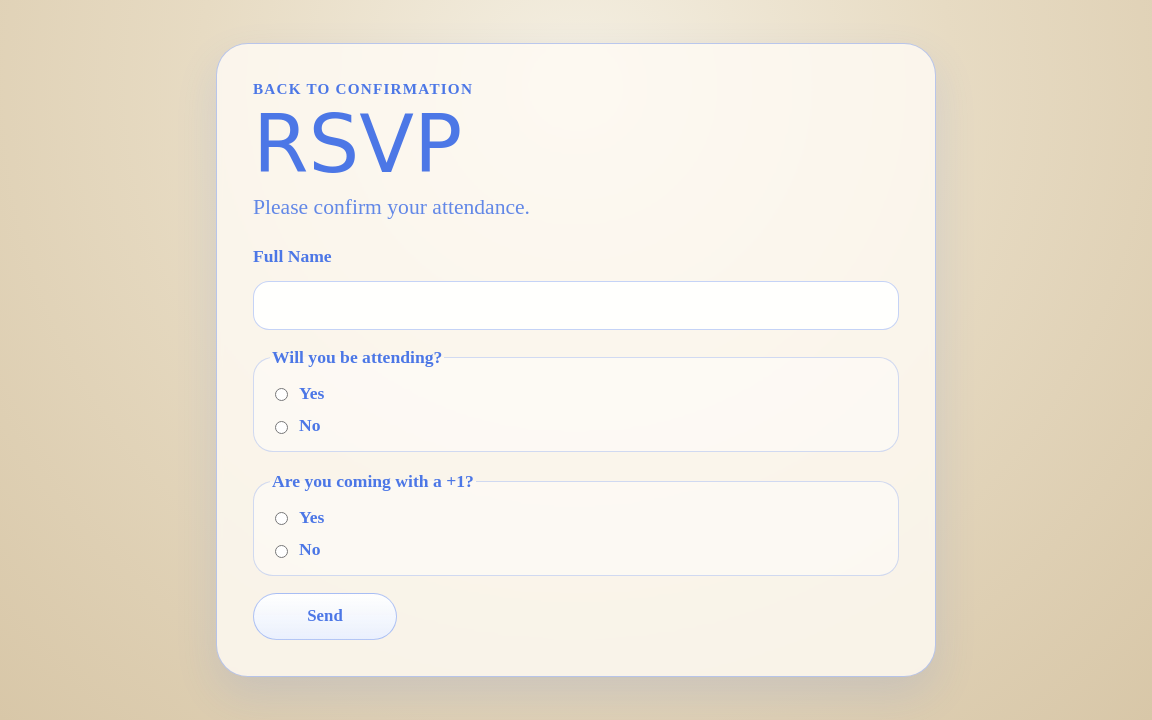
rsvp page › requires a plus one name when the guest is bringing one
Type "Luna Example" into the field labelled "Full Name" at {"x": 576, "y": 306}, box [253,281,899,330]
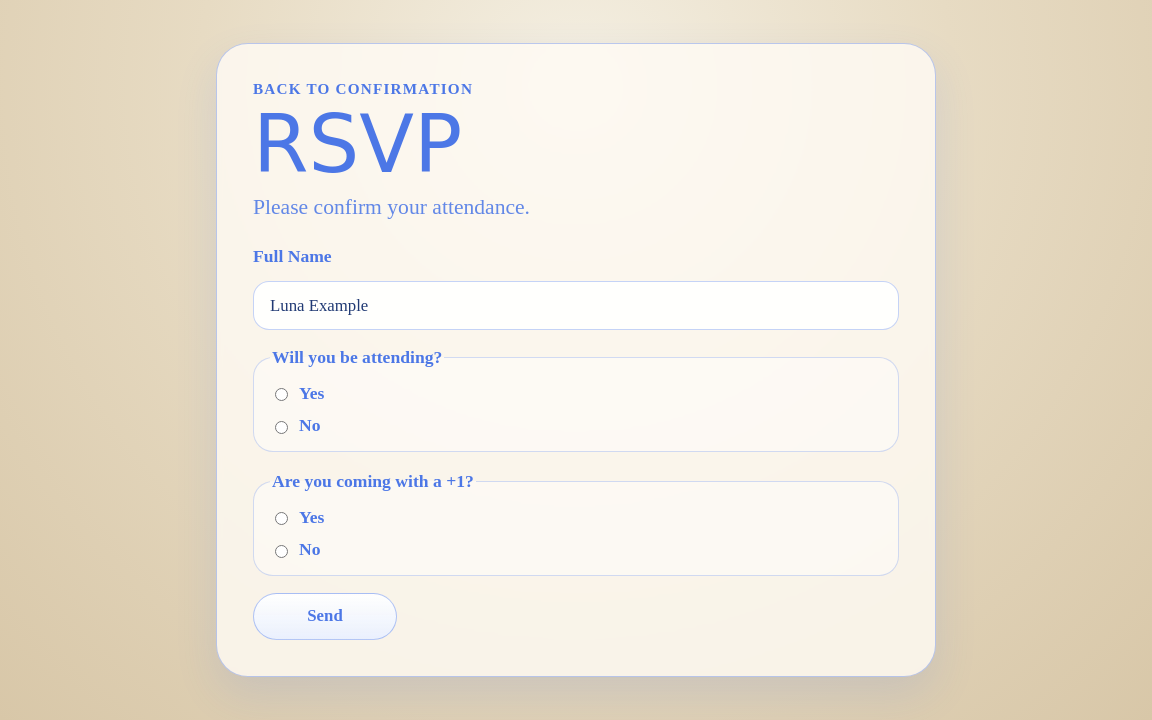
Click the radio button labelled "Yes" below "Will you be attending?" at {"x": 282, "y": 395}, box [275,388,288,402]
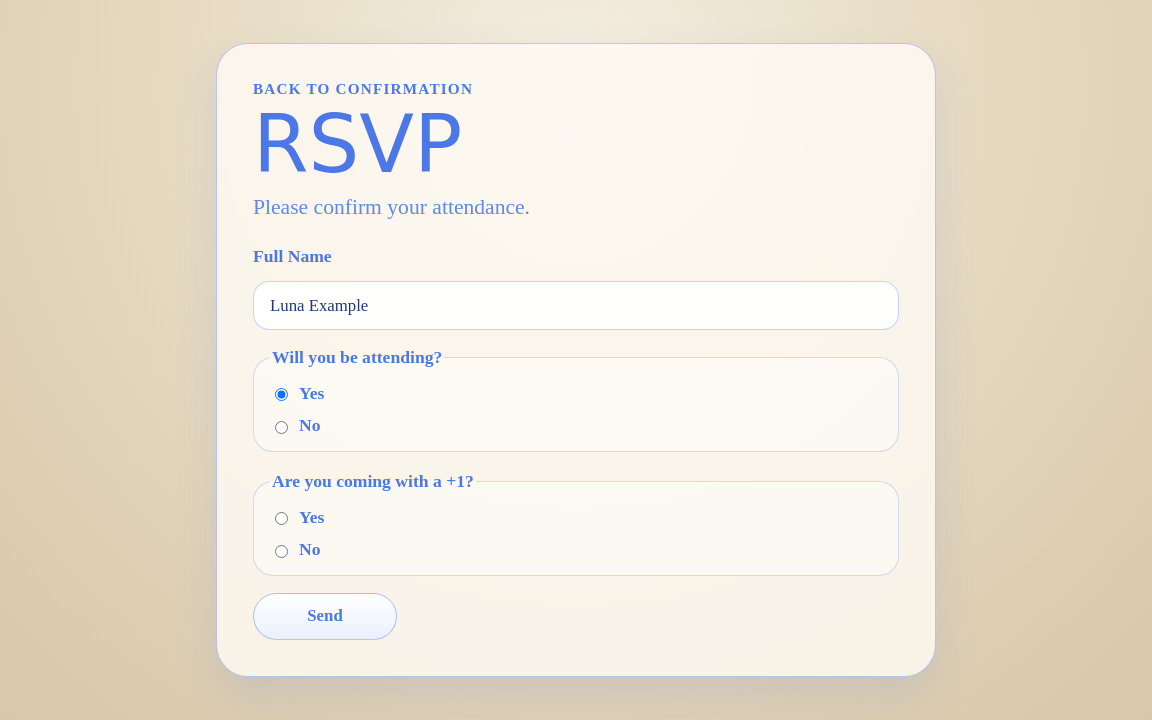
Click the radio button labelled "Yes" below "Are you coming with a +1?" at {"x": 282, "y": 519}, box [275,512,288,525]
(page scrolled)
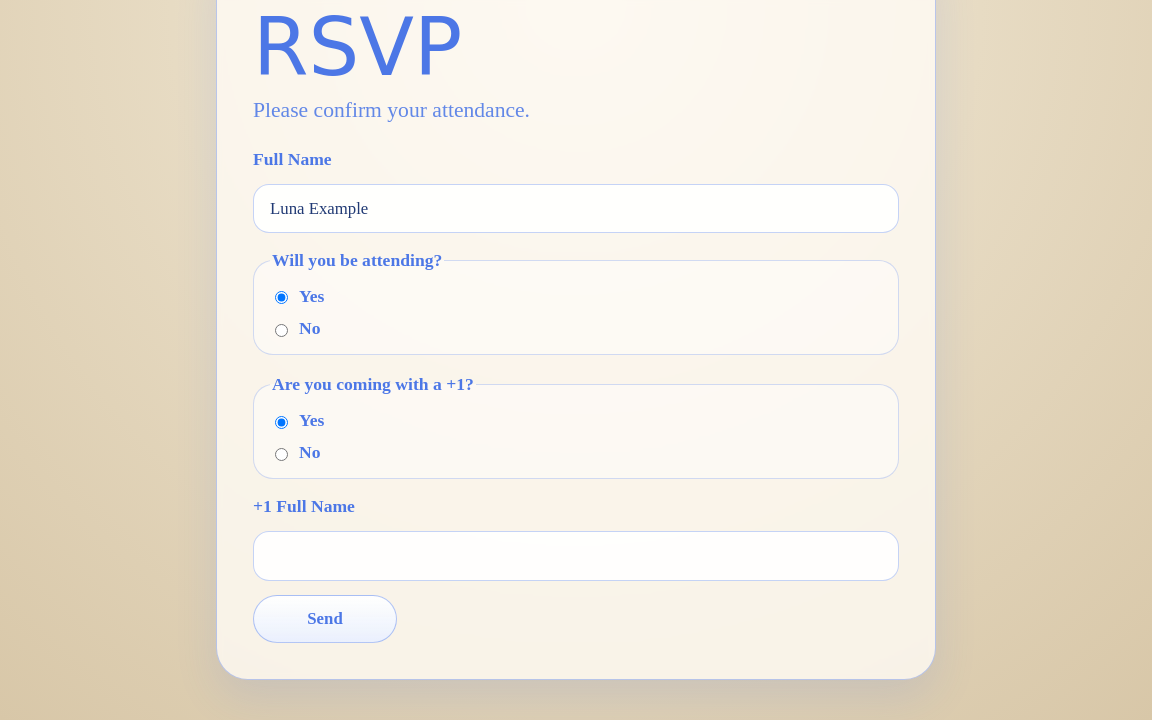
Click the button "Send" at {"x": 325, "y": 619}, box [253,595,397,642]
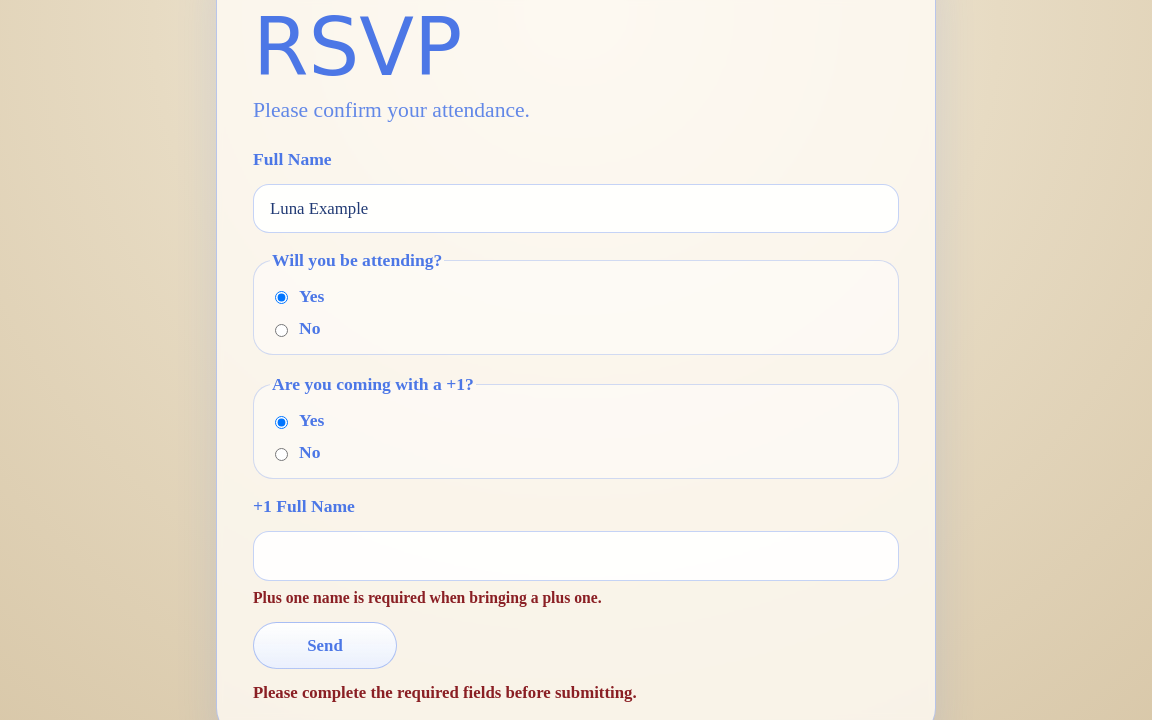
Check: the text "Plus one name is required when bringing a plus one." is shown, box [253,589,602,606]
